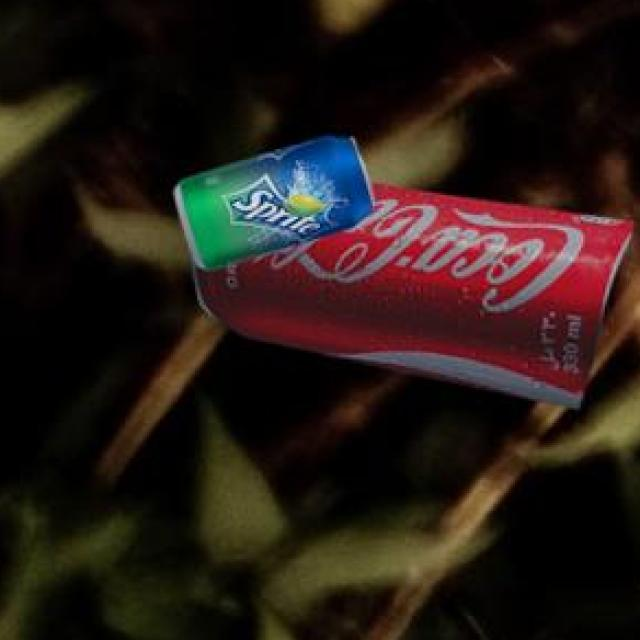logam: (195, 187, 637, 411), (179, 139, 376, 273)
